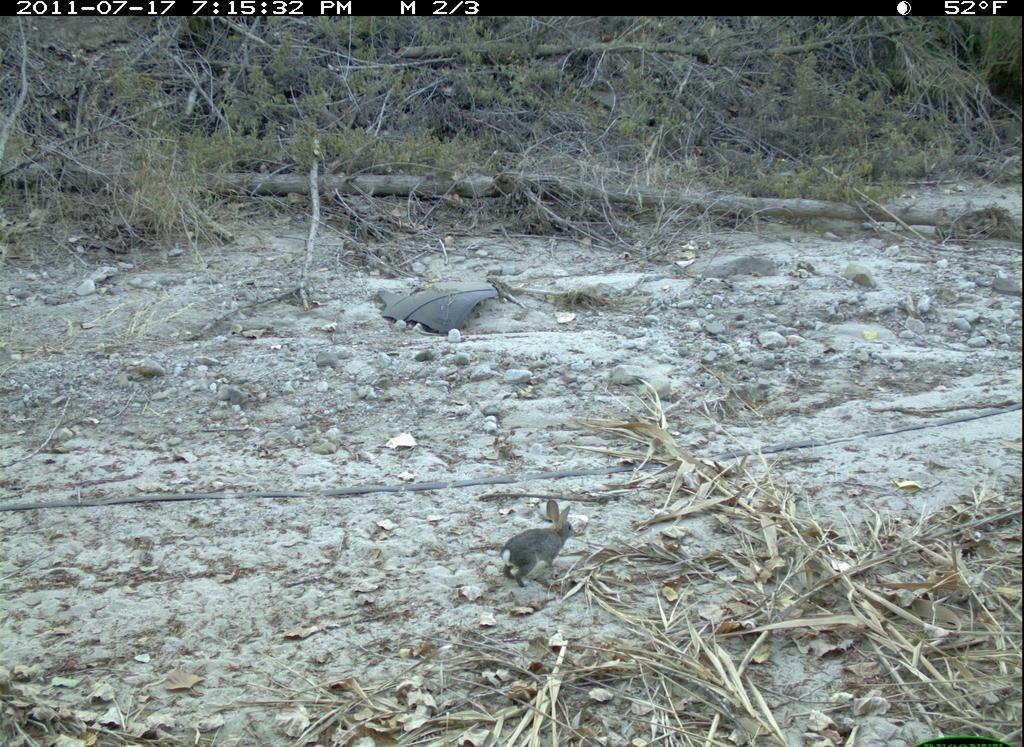rabbit: (489, 497, 583, 605)
